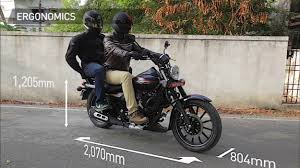helmet: (82, 10, 103, 34), (111, 10, 131, 33)
